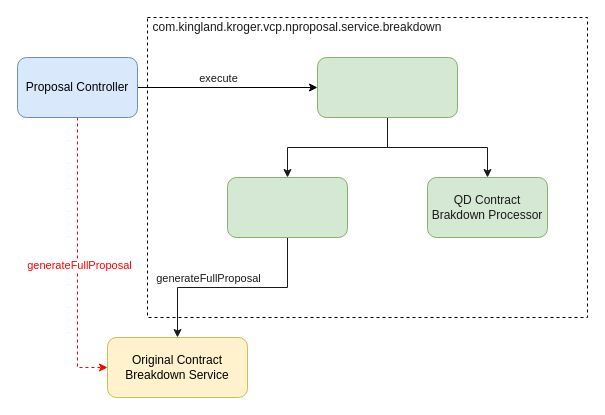
Image size: 605x415. Some labels were removed from this diagram. The centre of each missing label's shape, as x and y in pixels:
"Common Contract Brakdown Processor" goes at (287,207).
"Contract Breakdown Service" goes at (387,87).
